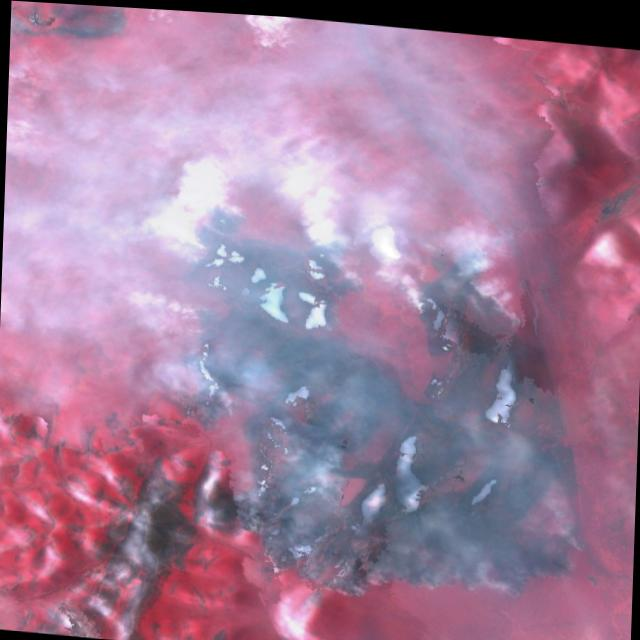fire: (161, 169, 612, 635)
